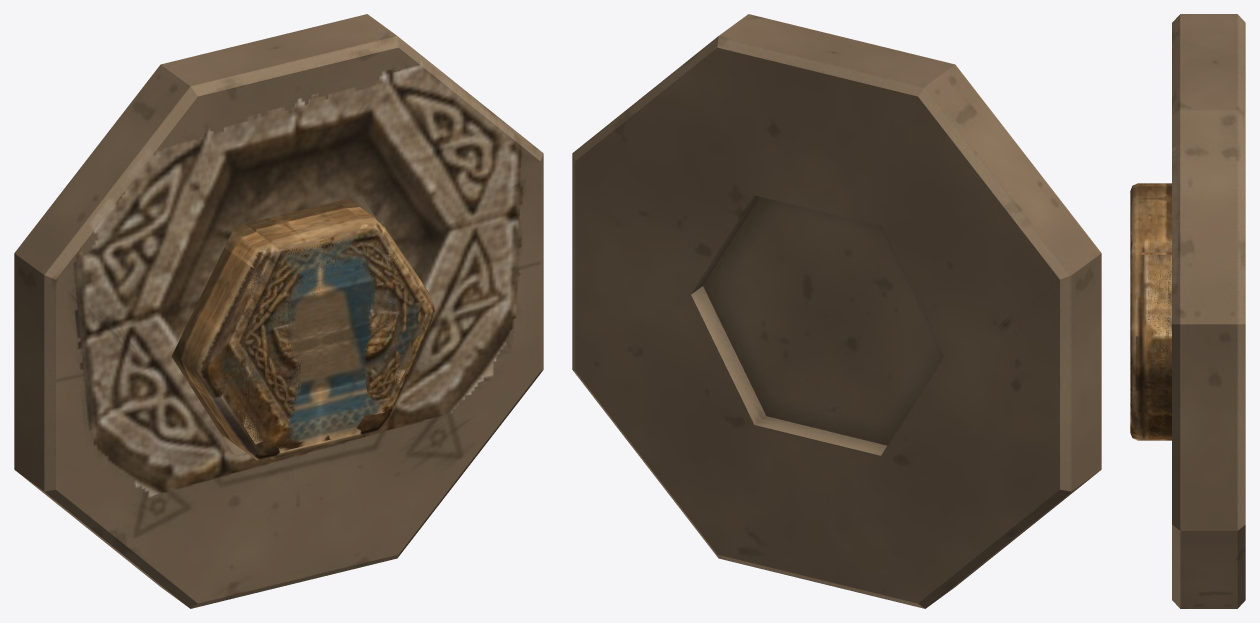
The model's file is lf_artifact_bronze_seal_pre_v2.glb.
3 renders of one model, left to right at view 1: azimuth 30°, elevation 25°; view 2: azimuth 150°, elevation 25°; view 3: azimuth 270°, elevation 25°, orthographic. The views are drawn at different scales.
Parts seen in each view (by area): view 1: lf_artifact_bronze_seal_socket_LOD0, lf_artifact_bronze_seal_v1_LOD0, lf_artifact_bronze_seal_v2_LOD0, lf_artifact_bronze_seal_v3_LOD0; view 2: lf_artifact_bronze_seal_socket_LOD0; view 3: lf_artifact_bronze_seal_socket_LOD0, lf_artifact_bronze_seal_v1_LOD0, lf_artifact_bronze_seal_v3_LOD0, lf_artifact_bronze_seal_v2_LOD0.
Boxes of the visible parts, box(x1,y1,x2,y2) form: lf_artifact_bronze_seal_socket_LOD0: box(14, 14, 543, 608); lf_artifact_bronze_seal_v1_LOD0: box(171, 198, 435, 460); lf_artifact_bronze_seal_v2_LOD0: box(216, 201, 424, 458); lf_artifact_bronze_seal_v3_LOD0: box(172, 199, 363, 454); lf_artifact_bronze_seal_socket_LOD0: box(572, 14, 1101, 608); lf_artifact_bronze_seal_socket_LOD0: box(1172, 14, 1245, 608); lf_artifact_bronze_seal_v1_LOD0: box(1130, 183, 1171, 440); lf_artifact_bronze_seal_v3_LOD0: box(1147, 183, 1171, 440); lf_artifact_bronze_seal_v2_LOD0: box(1130, 186, 1171, 255).
Size of what is drawn, in the model's own units: 0.269 by 0.269 by 0.0565.
1 material, 1 textured.
